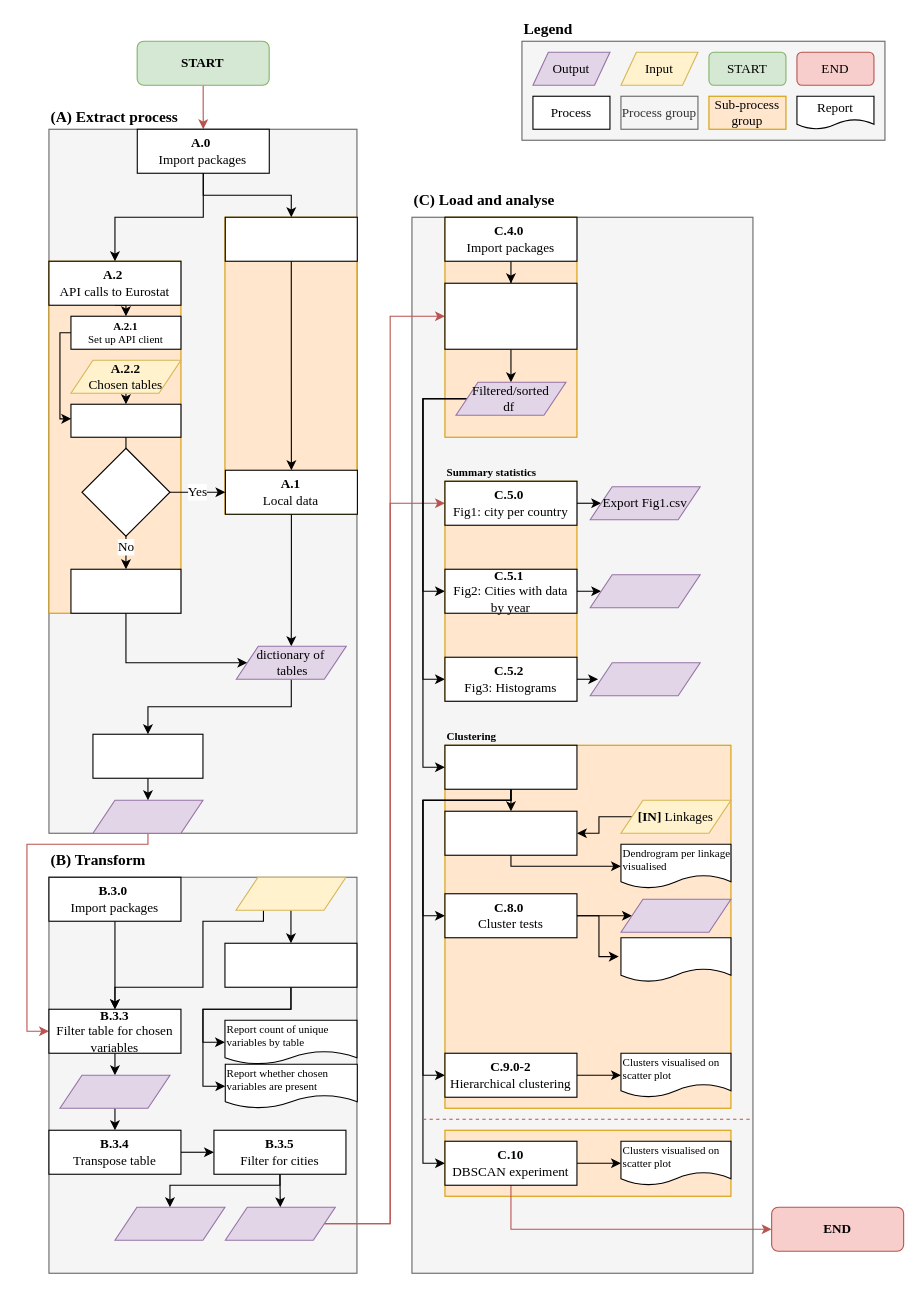
This 923x1293 diagram has some shape labels left out. The centre of each missing label's shape, as x and y in pixels:
[IN] Chosen variables: [290,893]
A.1 Check & load local data: [290,238]
A.2.3 Download function: [125,420]
A.2.4 Call 2.3 and download: [125,590]
A.2.4 Run local files?: [125,491]
A.2.5-2.7 Concatenate tables: [147,755]
B.3.1-2 Report unique variables: [290,964]
C.4.1-2 Drop 'nan' values + sort table + select 1 year: [510,315]
C.6.0 Set up cluster data: [510,766]
C.7.0 Dendograms: [510,832]
eu_df_all dataframe: [147,816]
Export Fig2.csv: [644,591]
Export Fig3.csv: [644,679]
Export Fig4.csv: [675,915]
filter city df: [279,1223]
filter country df: [169,1223]
filtered df: [114,1091]
Test scores visualised: [675,959]
